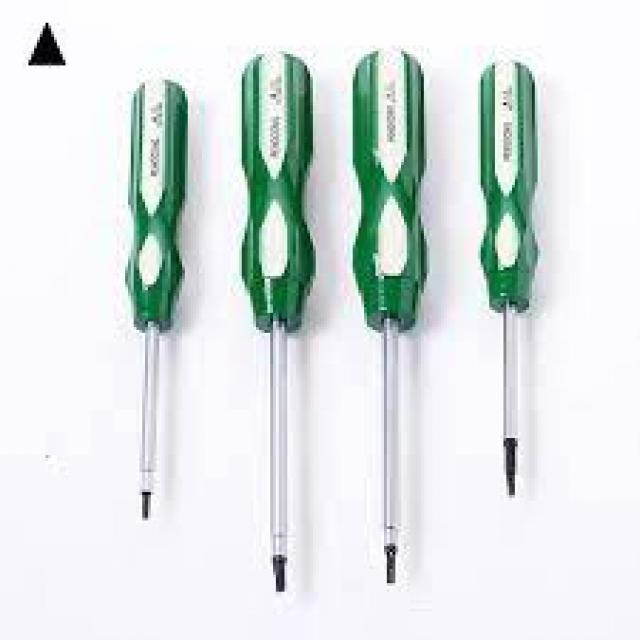screwdriver: (348, 44, 428, 590), (239, 48, 313, 594), (122, 73, 190, 520), (476, 56, 539, 500)
